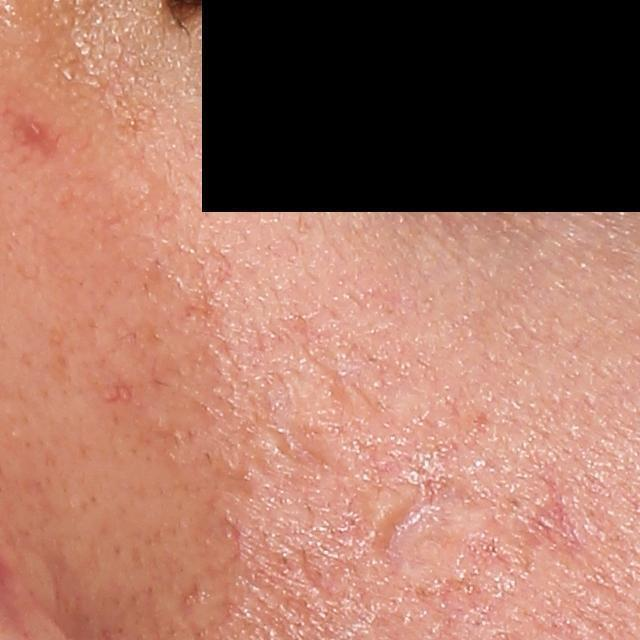atrophic_scar: (365, 496, 445, 568), (284, 422, 354, 478), (533, 473, 581, 554)
